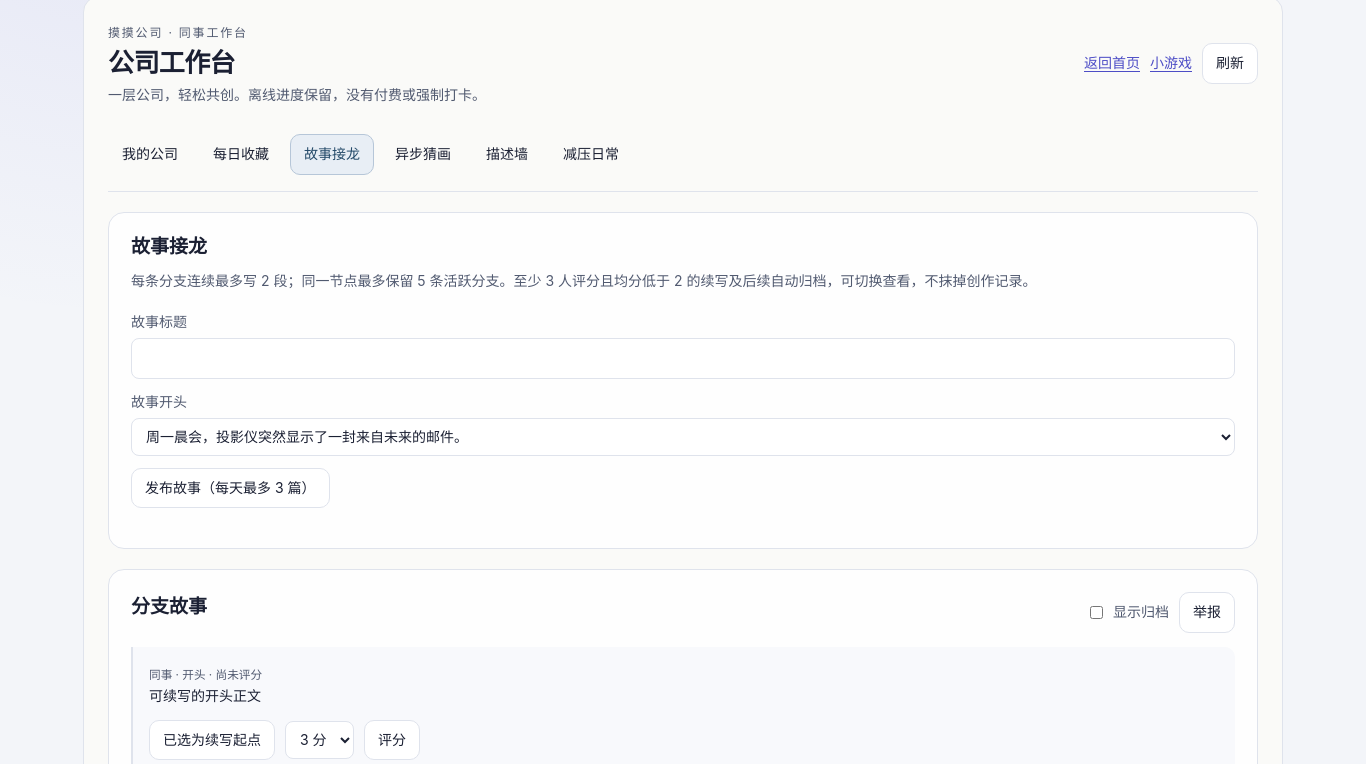
Test: Office workspace functional controls › allows archived story reading without allowing replies into archived nodes
Expected: the text "可续写的开头正文" is shown, x1=149 y1=687 x2=261 y2=704
Expected: the text "已归档的分支正文" is not shown
What coordinates should you click on to do the following:
click the checkbox labelled "显示归档"
I would click on:
 (1096, 613)
Its box is x1=1090 y1=606 x2=1103 y2=619.
(page scrolled)
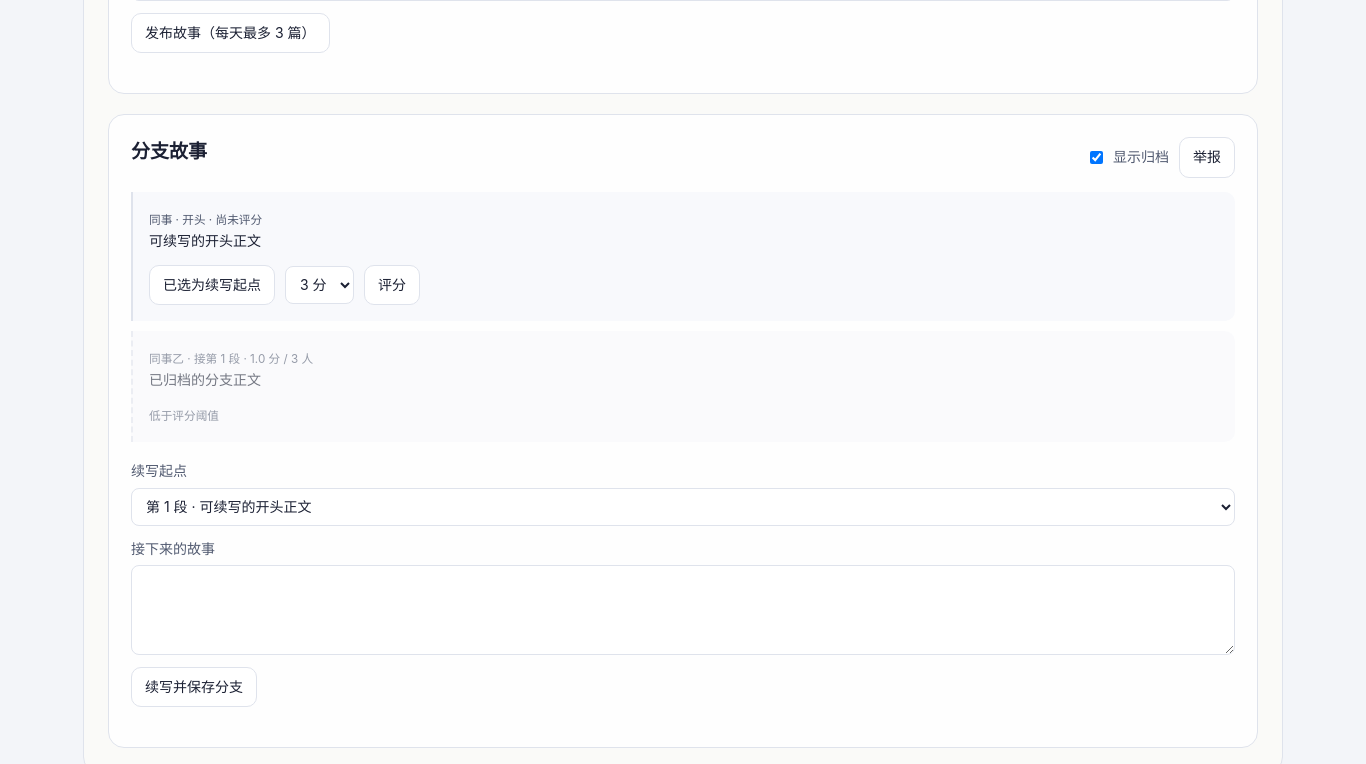
Expected: the text "已归档的分支正文" is shown, x1=149 y1=371 x2=261 y2=388
